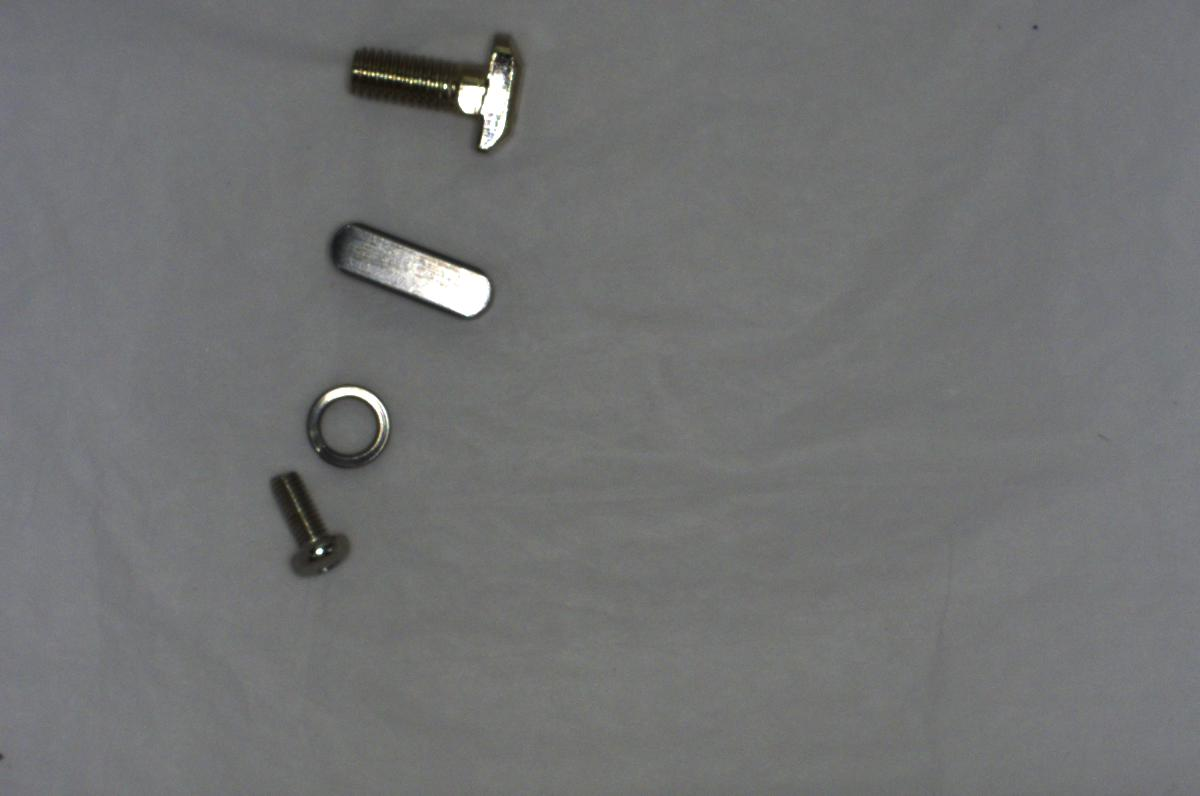Keybar: (320, 215, 497, 320)
Round head screw: (253, 465, 365, 588)
Spring washer: (294, 376, 398, 473)
T-shaped screw: (345, 19, 531, 156)
